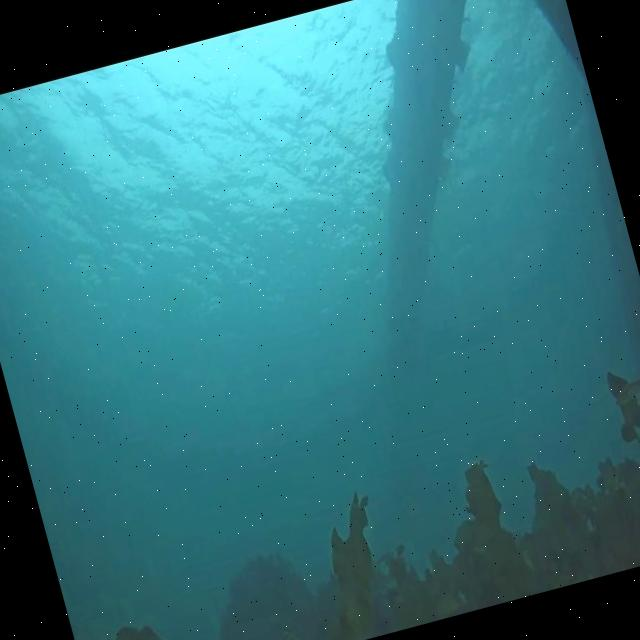fish: (609, 364, 640, 409)
